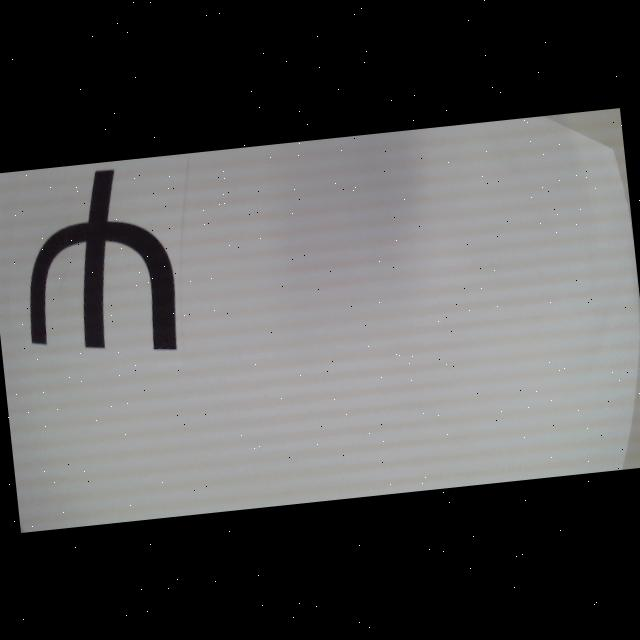PSI: (12, 162, 182, 364)
